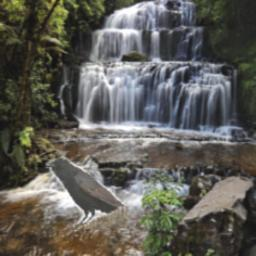Crow: (46, 157, 127, 230)
